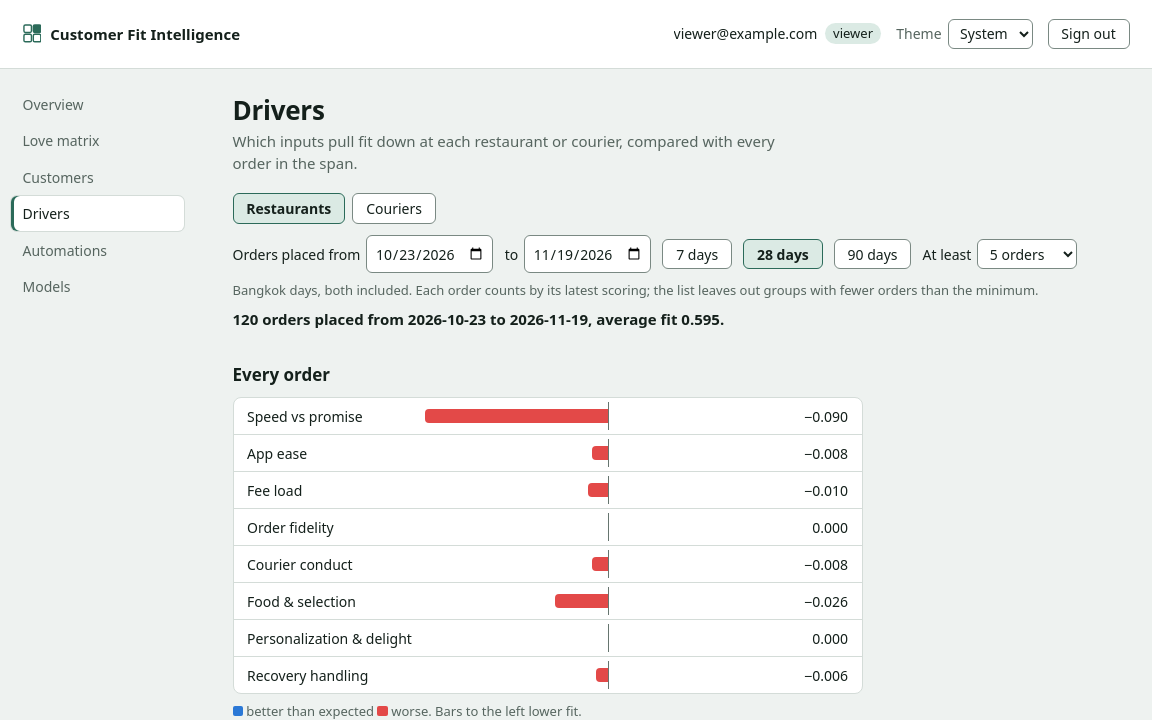
Test: couriers, a span and a minimum go into the URL and the question
The image size is (1152, 720).
Click the button "Couriers": (394, 209) [352,193,436,224]
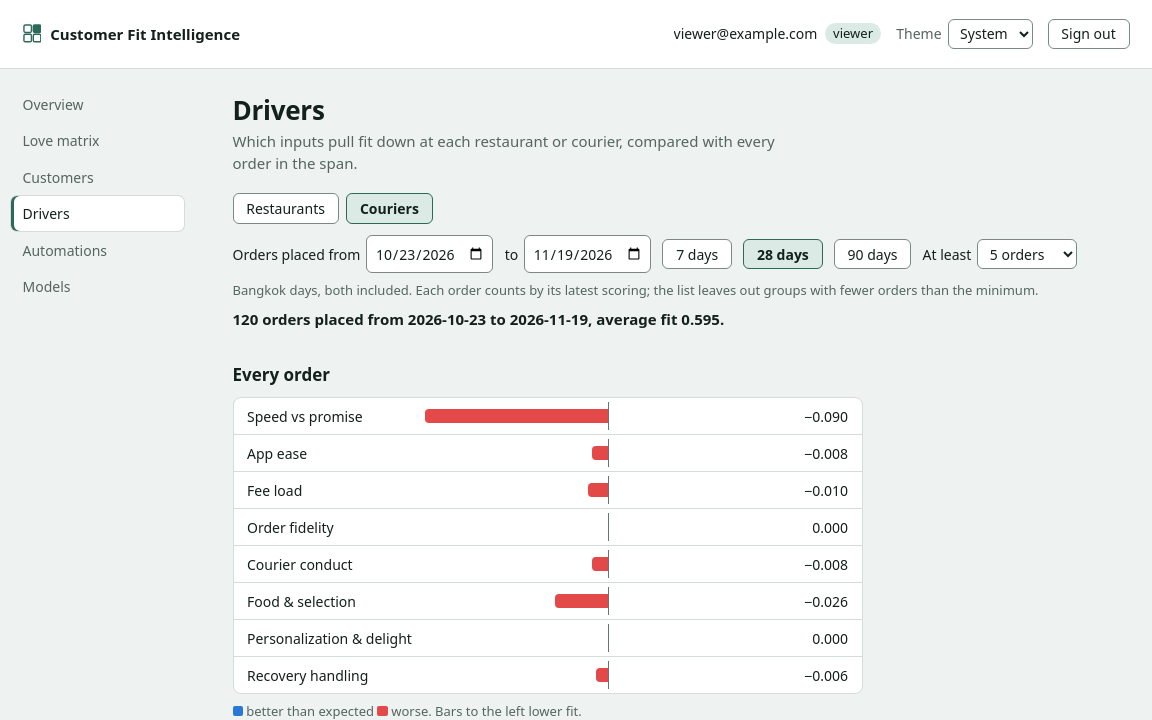
Click the button "7 days": (697, 254) [662,239,732,269]
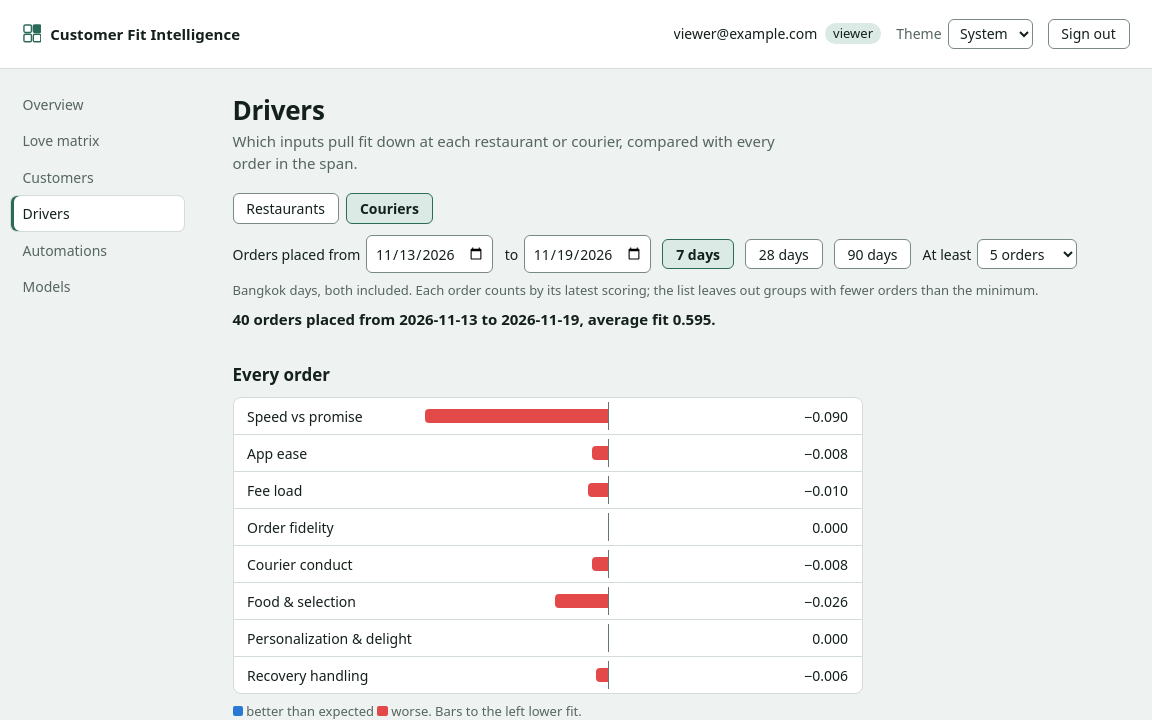
Expected: the text "40 orders placed from 2026-11-13 to 2026-11-19, average fit 0.595." is shown, [232,309,716,329]
Select "10 orders" in the dropdown labelled "At least": (1027, 254) [977,239,1077,269]
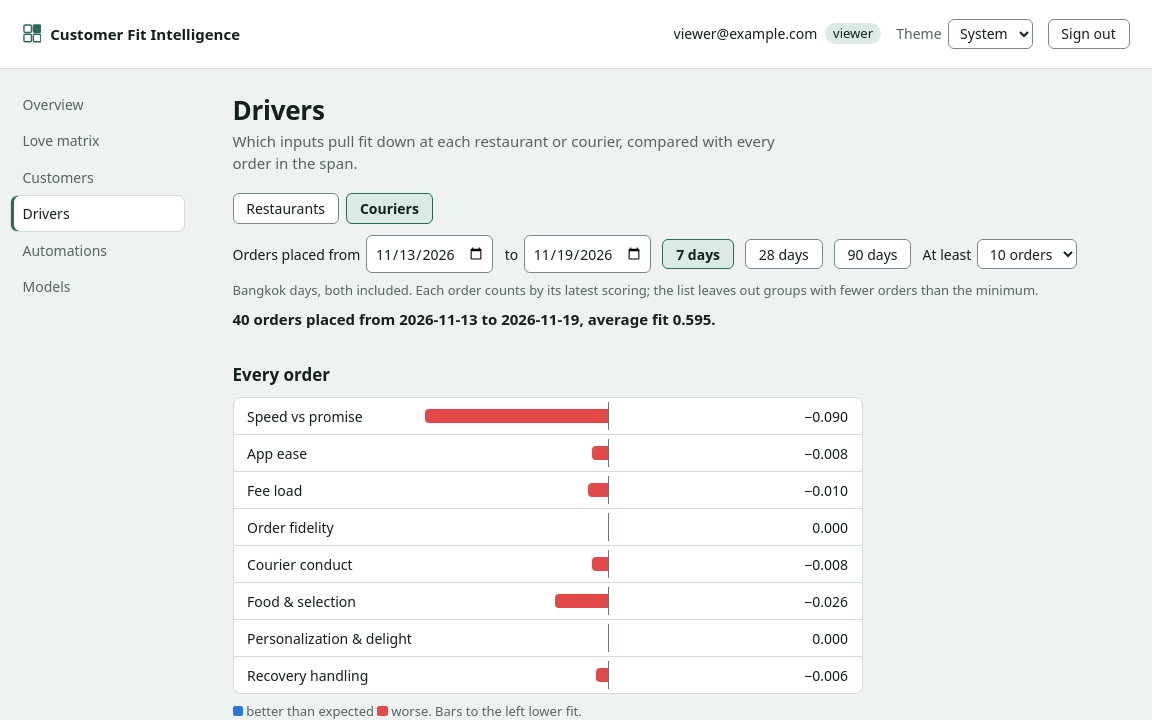
In the date field labelled "Orders placed from": (430, 254) [366,235,493,273], type "2026-11-01"
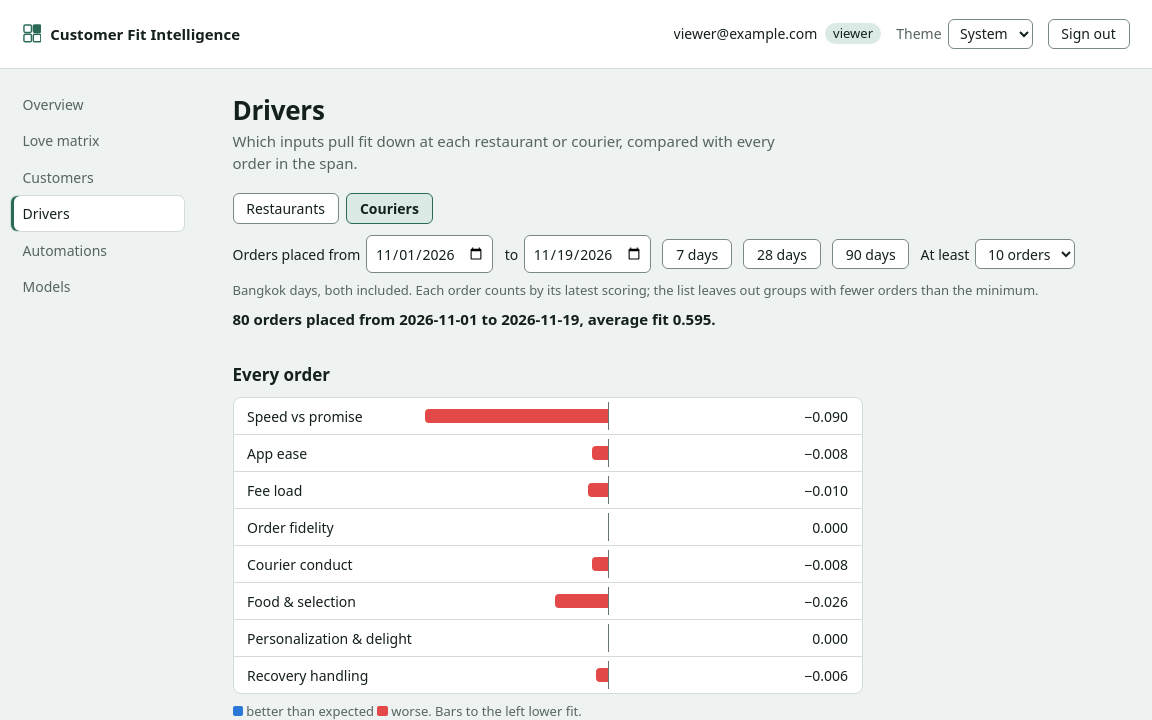
Expected: the text "80 orders placed from 2026-11-01" is shown, [232,309,716,329]
